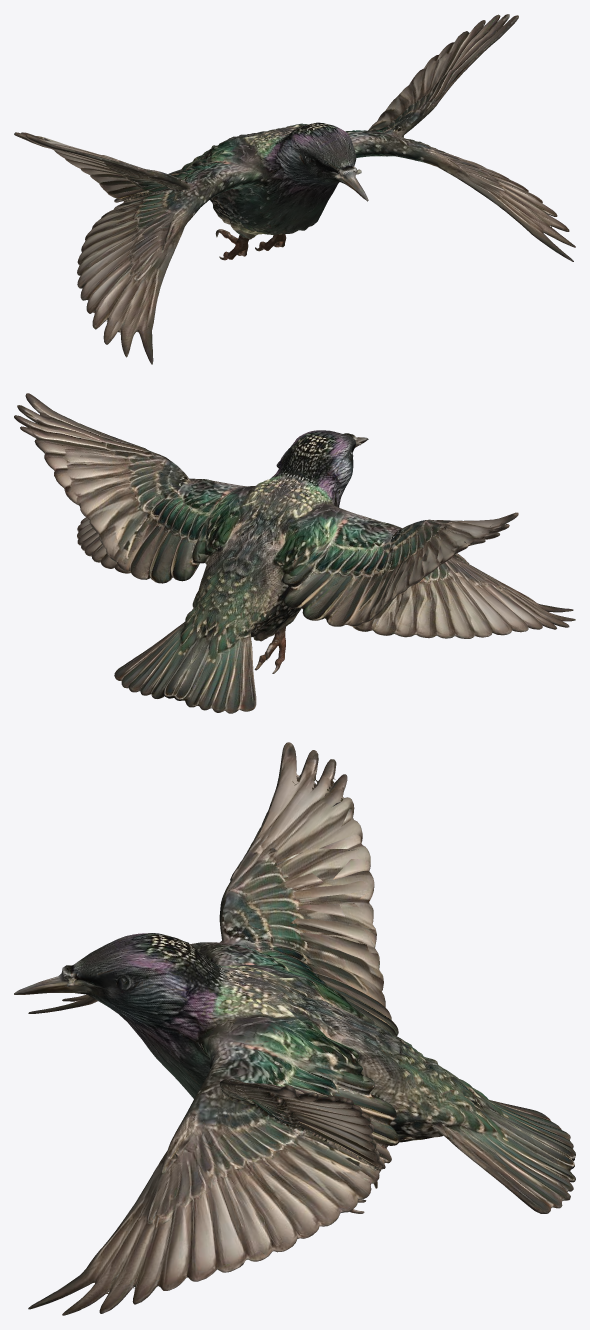
The model's file is starling.glb.
3 renders of one model, top to bottom at view 1: azimuth 30°, elevation 25°; view 2: azimuth 150°, elevation 25°; view 3: azimuth 270°, elevation 25°, orthographic. The views are drawn at different scales.
Parts seen in each view (by area): view 1: Mesh_0; view 2: Mesh_0; view 3: Mesh_0.
Part boxes in pixels (left/top/right/bottom): Mesh_0: left=14, top=14, right=575, bottom=364; Mesh_0: left=14, top=393, right=575, bottom=713; Mesh_0: left=14, top=742, right=575, bottom=1315.
Bounding box in the file's own units: 1.91 × 0.7273 × 1.31.
Materials: 1 (1 with a texture image).
